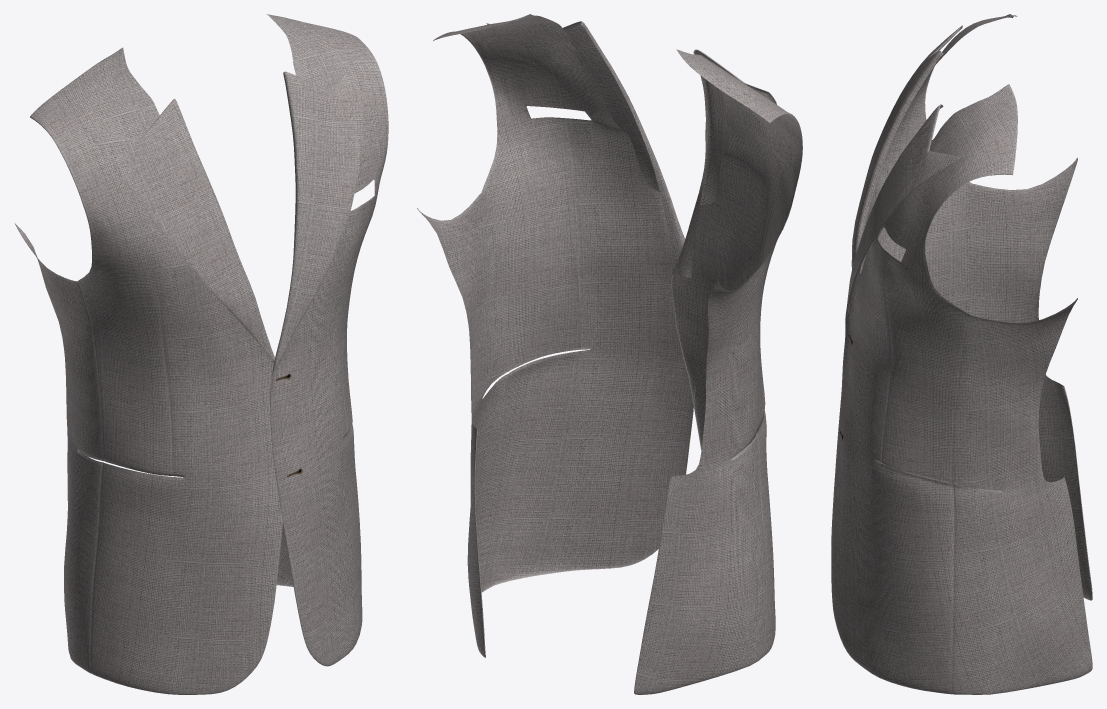
File: peak_double_button_wide.glb
3 renders of one model, left to right at view 1: azimuth 30°, elevation 25°; view 2: azimuth 150°, elevation 25°; view 3: azimuth 270°, elevation 25°, orthographic. The views are drawn at different scales.
Parts seen in each view (by area): view 1: peak_double_button_wide; view 2: peak_double_button_wide; view 3: peak_double_button_wide.
Boxes of the visible parts, <box> form: peak_double_button_wide: <box>15,14,388,694</box>; peak_double_button_wide: <box>417,14,802,694</box>; peak_double_button_wide: <box>831,14,1092,694</box>.
Bounding box in the file's own units: 0.0585 × 0.102 × 0.0411.
2 materials, 2 textured.
